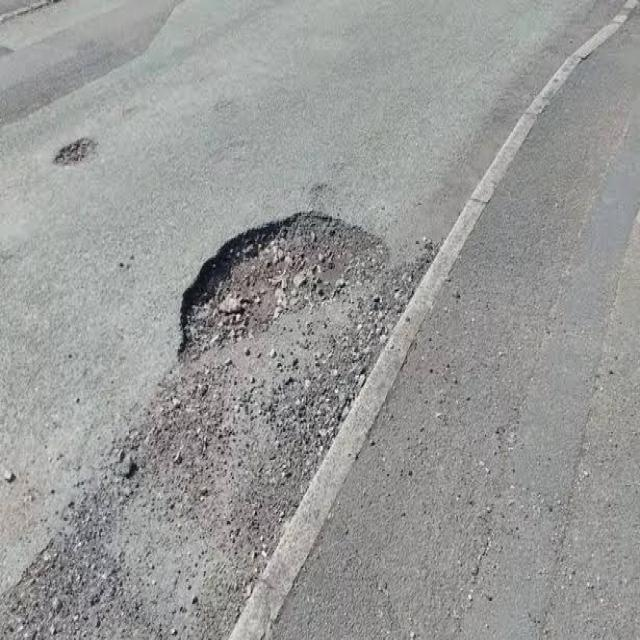pothole: (127, 176, 426, 488), (30, 132, 134, 176)
